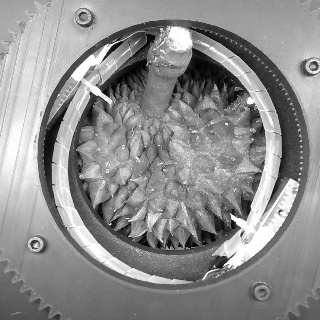base: (137, 100, 171, 122)
end: (166, 26, 194, 53)
